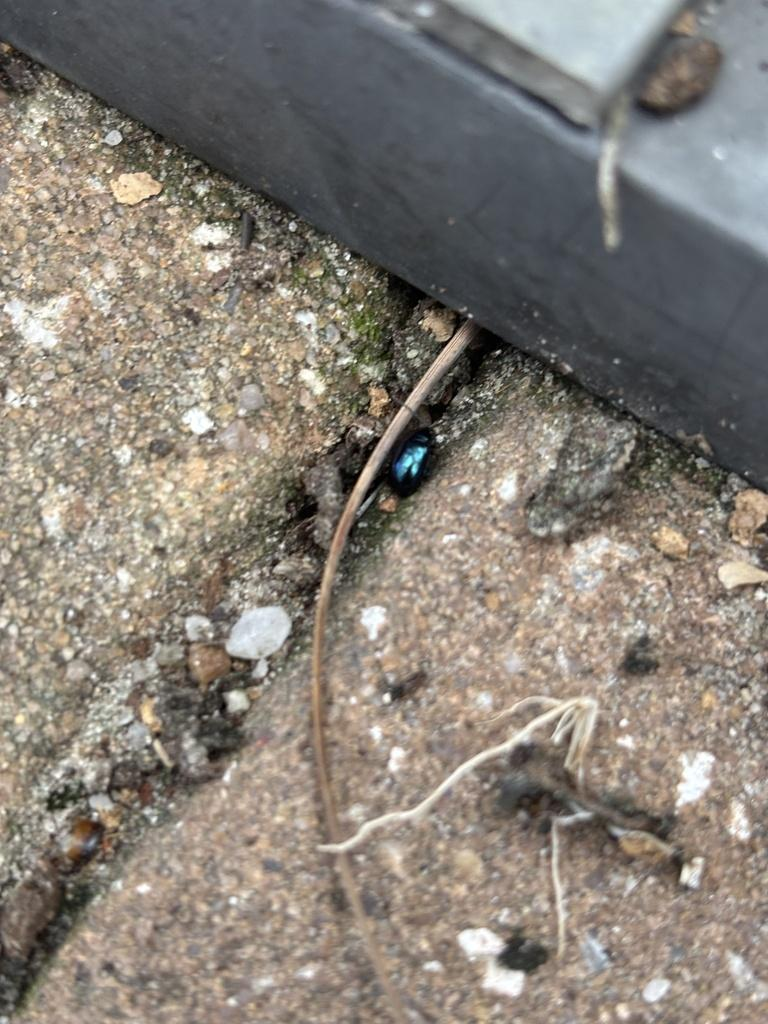flea_beetle: (361, 396, 465, 533)
